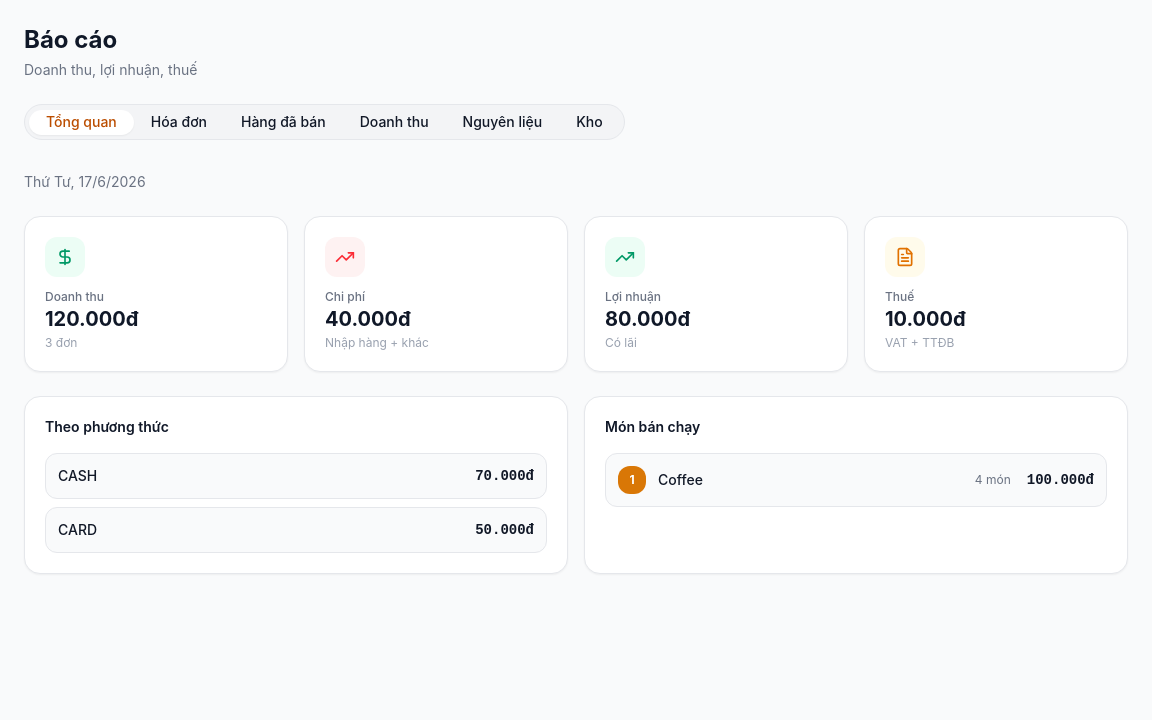
Test: ReportsClient › switches across sold, revenue, ingredient, and warehouse reports
Step 1. Click the tab "Hàng đã bán" → [283, 122], box [224,110,343,134]
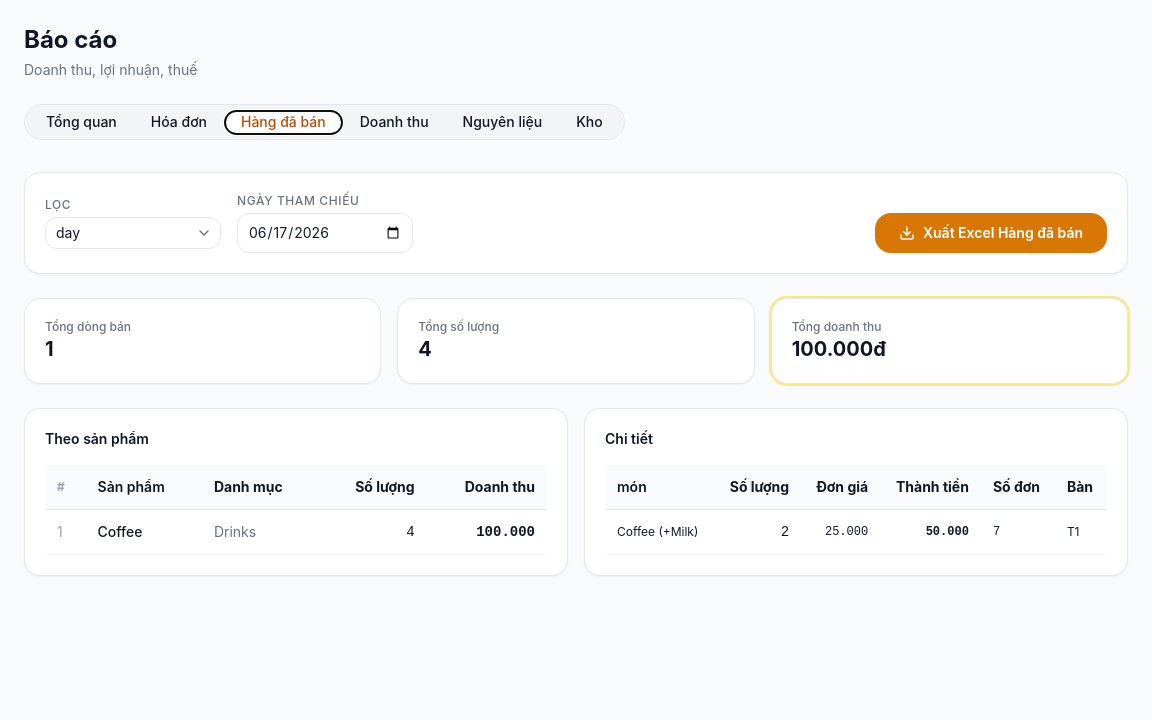
Expected: the text "Coffee (+Milk)" is shown, [605,510,714,554]
Step 2. Click the tab "Doanh thu" → [394, 122], box [343,110,446,134]
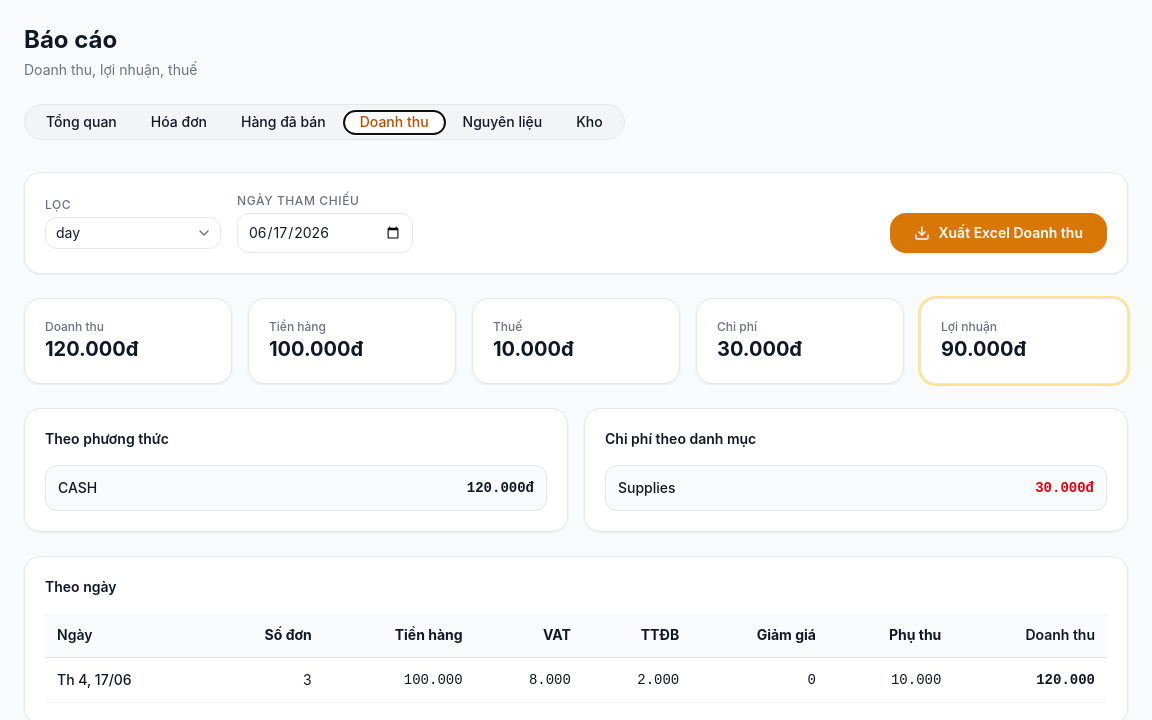
Expected: the text "Supplies" is shown, [618,478,676,498]
Step 3. Click the tab "Nguyên liệu" → [502, 122], box [446,110,559,134]
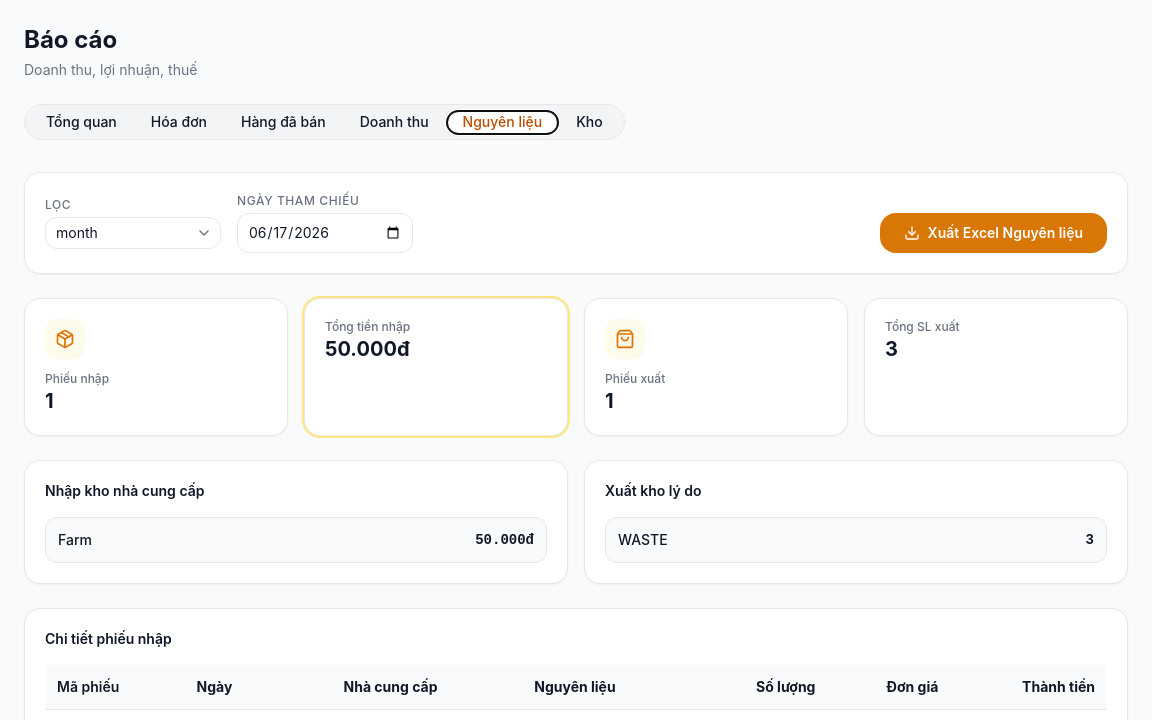
Expected: the text "WASTE" is shown, [618,530,668,550]
Step 4. Click the tab "Kho" → [589, 122], box [559,110,620,134]
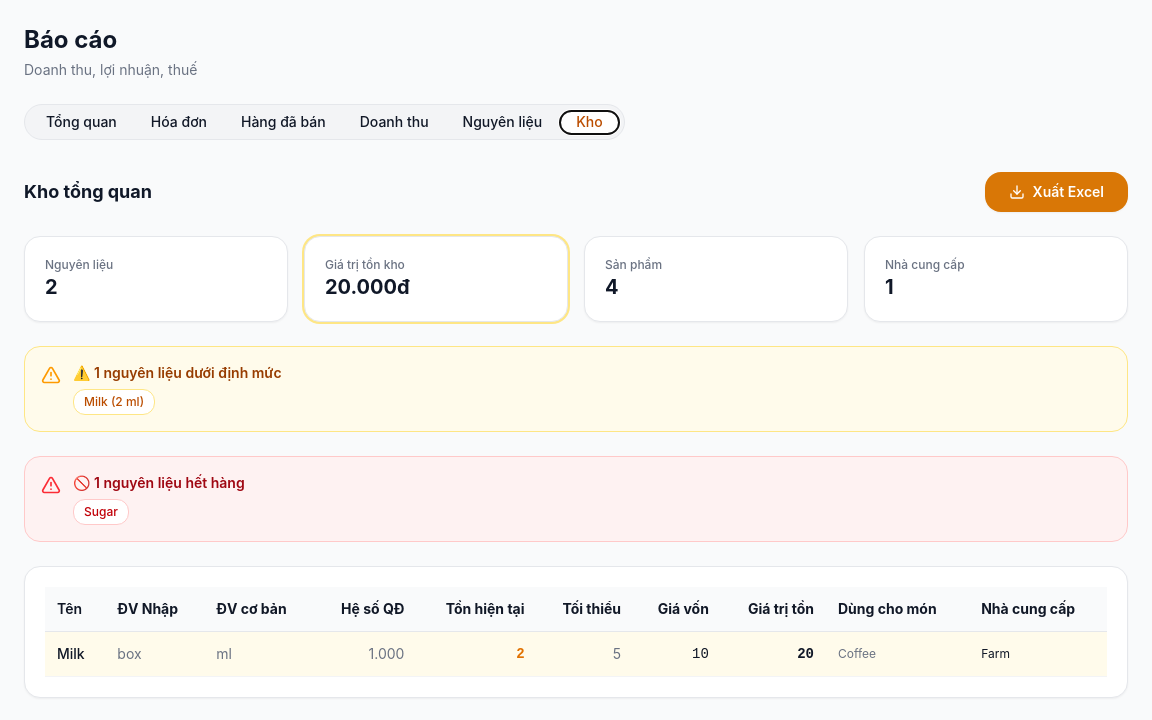
Expected: the text "Milk (2 ml)" is shown, [73,389,155,415]
Expected: the text "Sugar" is shown, [73,499,129,525]
